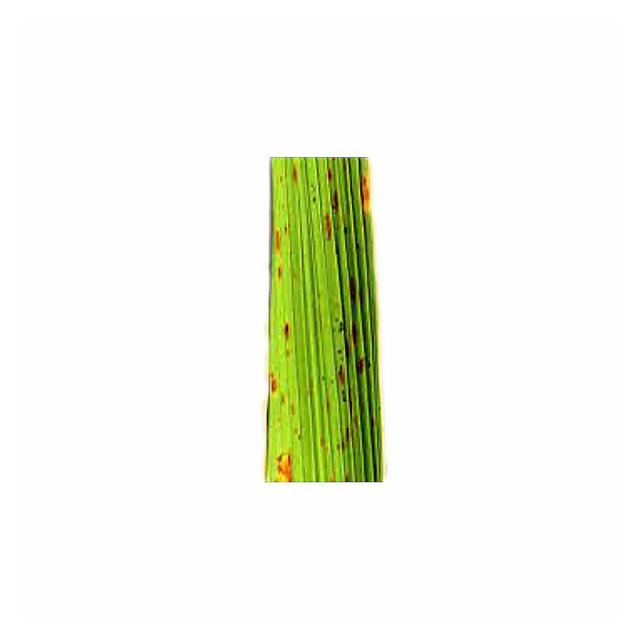Narrow brown: (214, 82, 461, 517)
